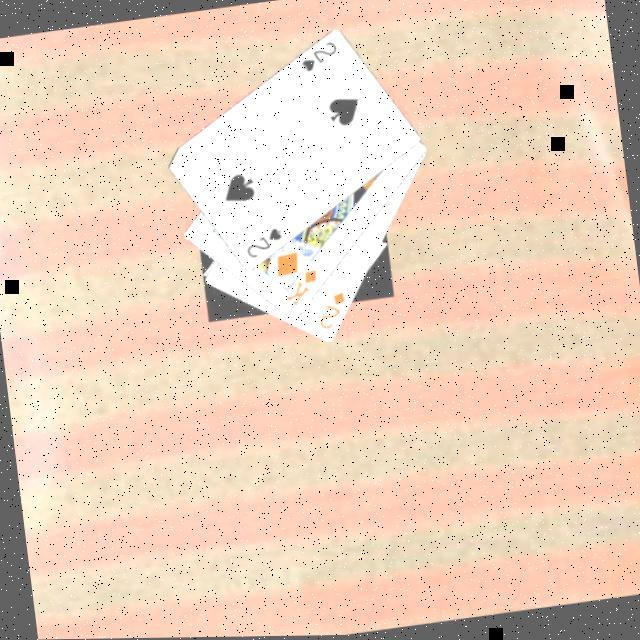2D: (310, 286, 349, 332)
2S: (238, 222, 285, 262), (293, 36, 340, 76)
KD: (277, 265, 322, 311)
